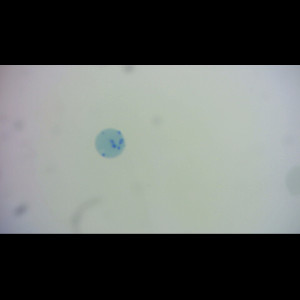aggregate reticulocyte: (93, 127, 127, 159)
